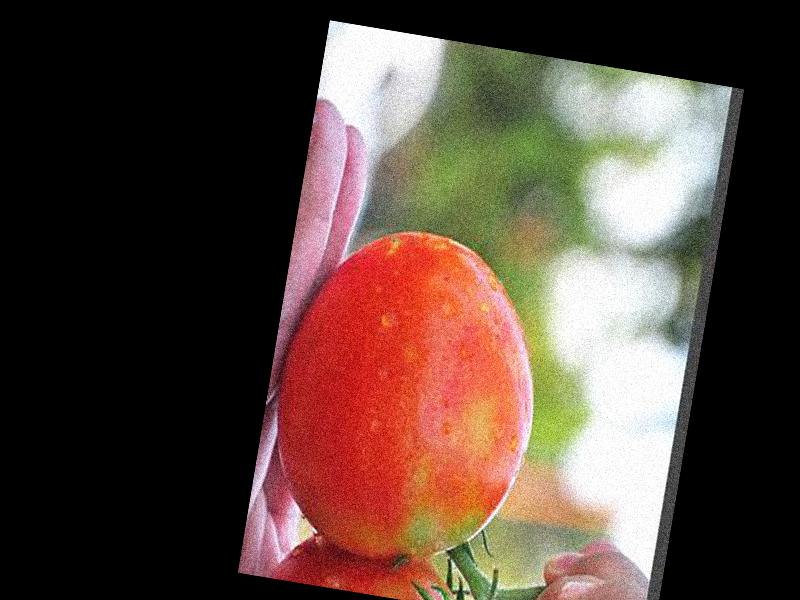Tomato: (257, 215, 560, 577)
